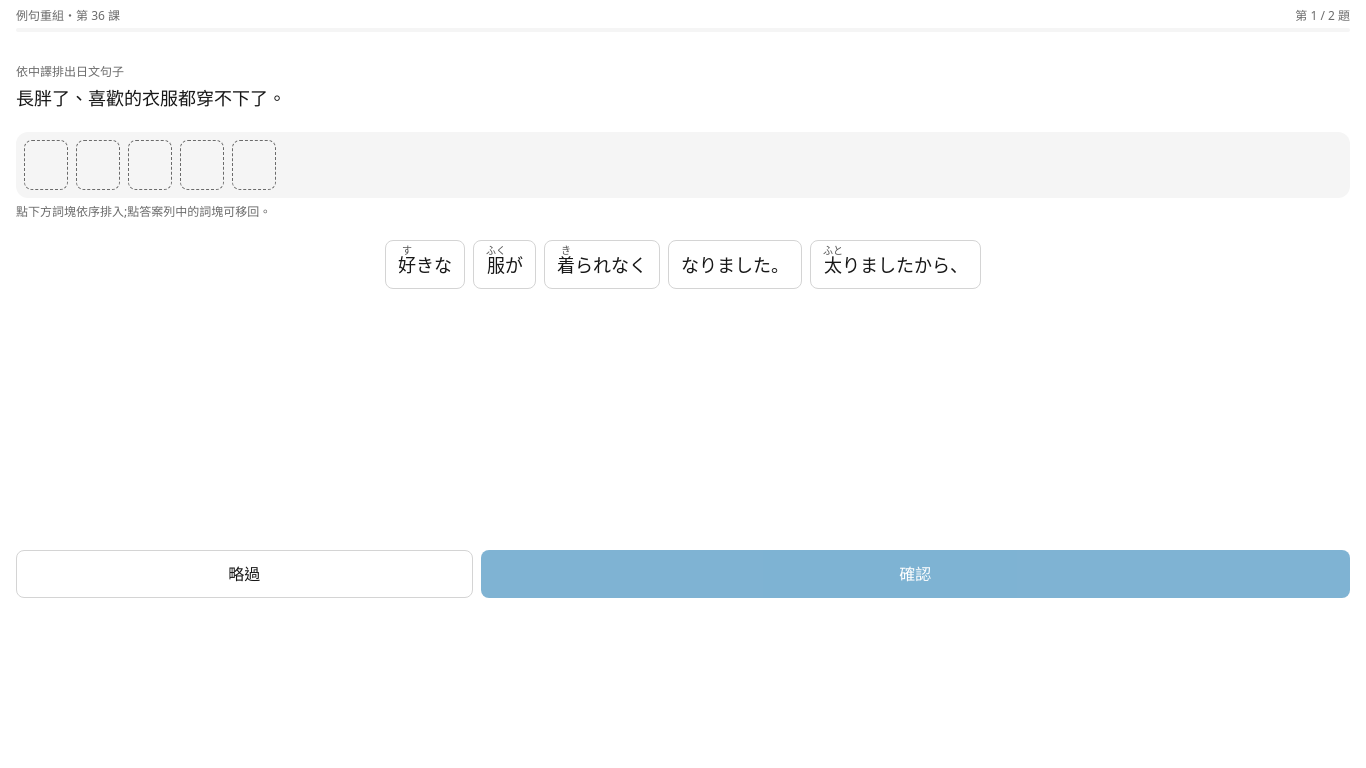
Test: ReorderRunner 題目 › furigana 依全域設定;TTS 關閉時不渲染發音鈕
The image size is (1366, 768).
Expected: the text "長胖了、喜歡的衣服都穿不下了。" is shown, [16,86,286,110]
Click the button "略過": coordinates (244, 574) [16,550,473,598]
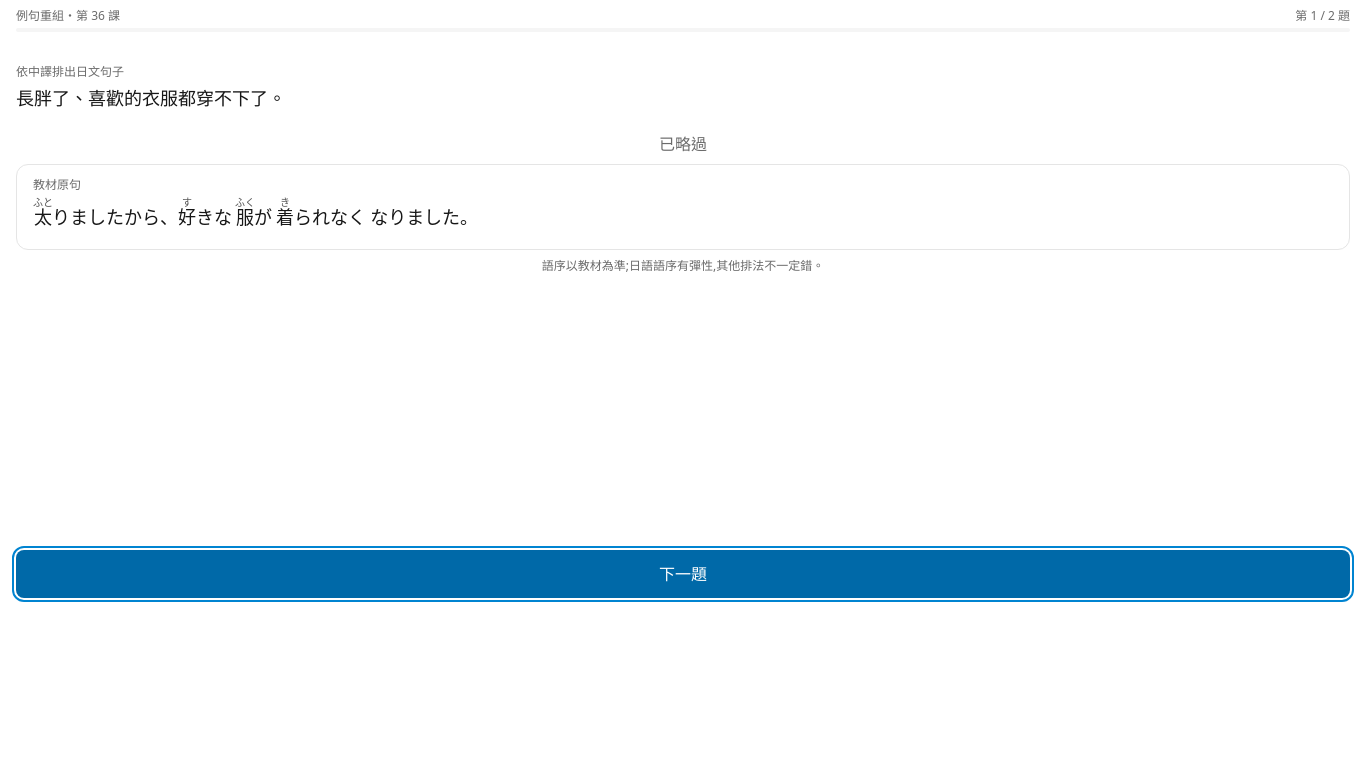
Now the text "教材原句" is shown, box [33,176,81,193]
